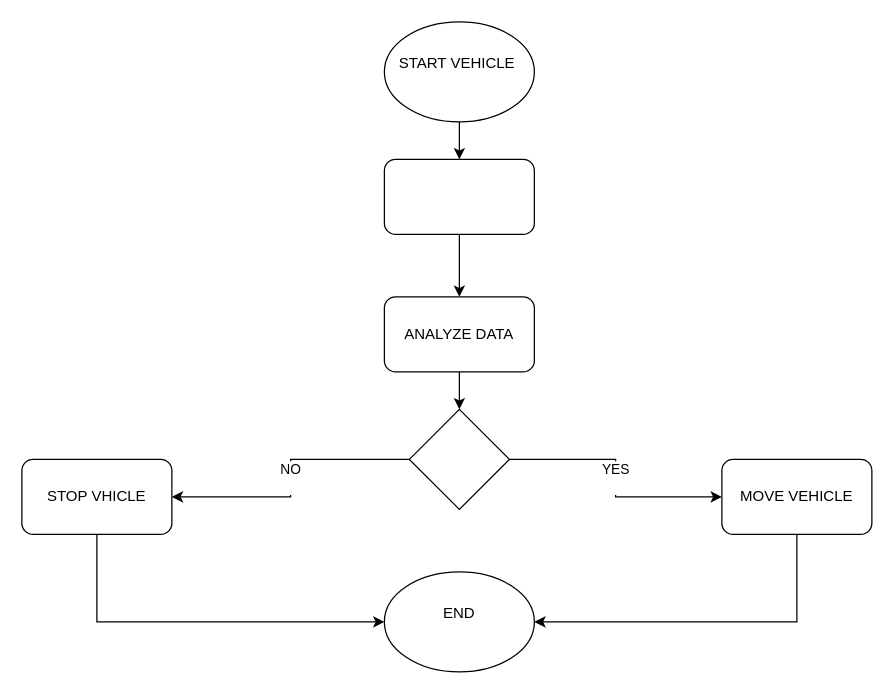
Some shapes in this 894 by 694 pixel diagram are drawn without their labels. The shapes that lost their labels are listed below. From the top down, each one's centre as x and y in pixels, then its label:
At point 458,196: "SENSE ENVIRONMENT".
At point 458,458: "SAFE TO MOVE?".
